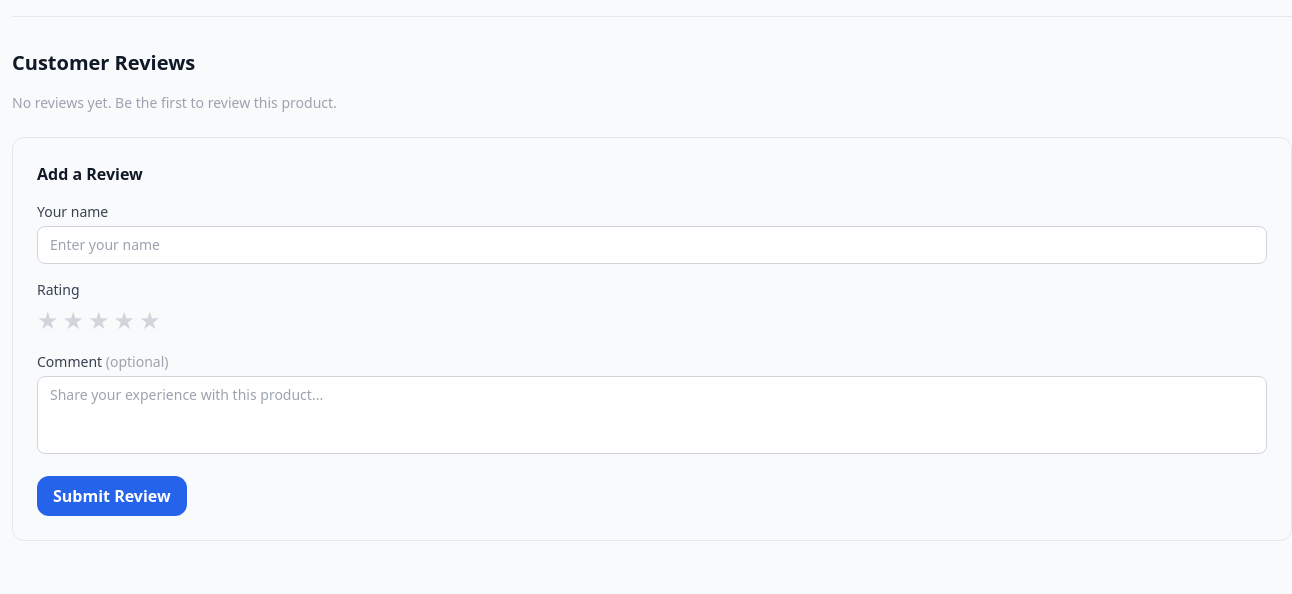
ReviewSection › shows "already reviewed" error on 409
This screenshot has width=1292, height=594.
Type "Alice" into the field labelled "Your name".
click(652, 245); type("Alice")  # box [37,226,1267,264]
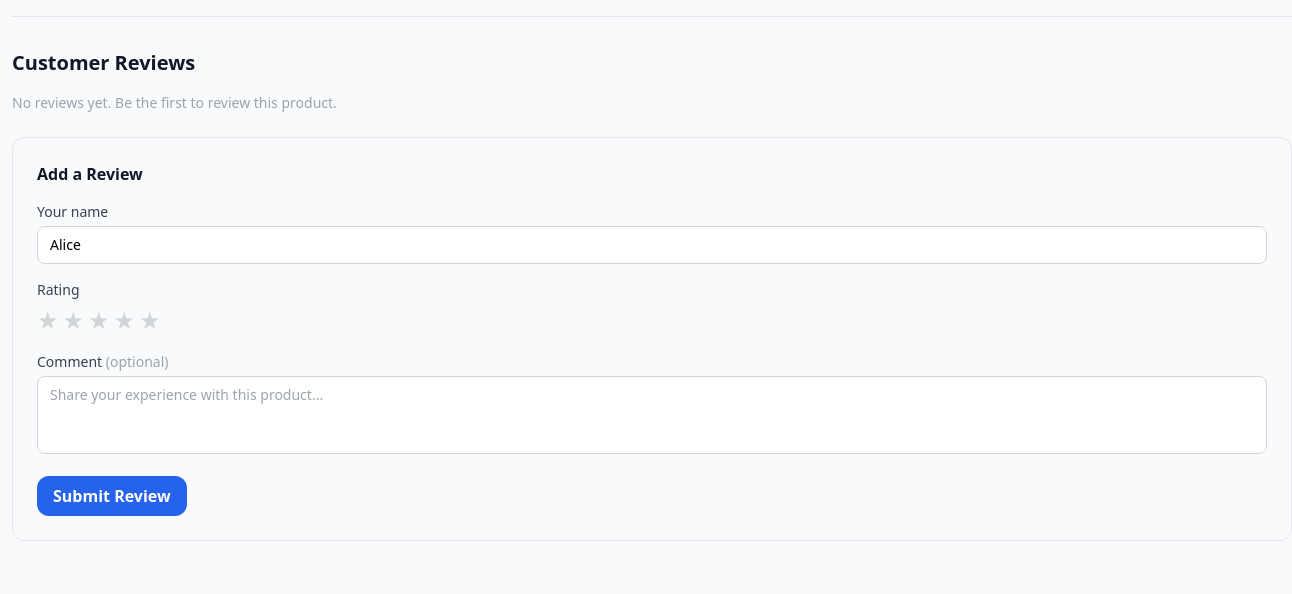
Click the button named "4 stars".
click(124, 320)  # box [114,304,135,336]
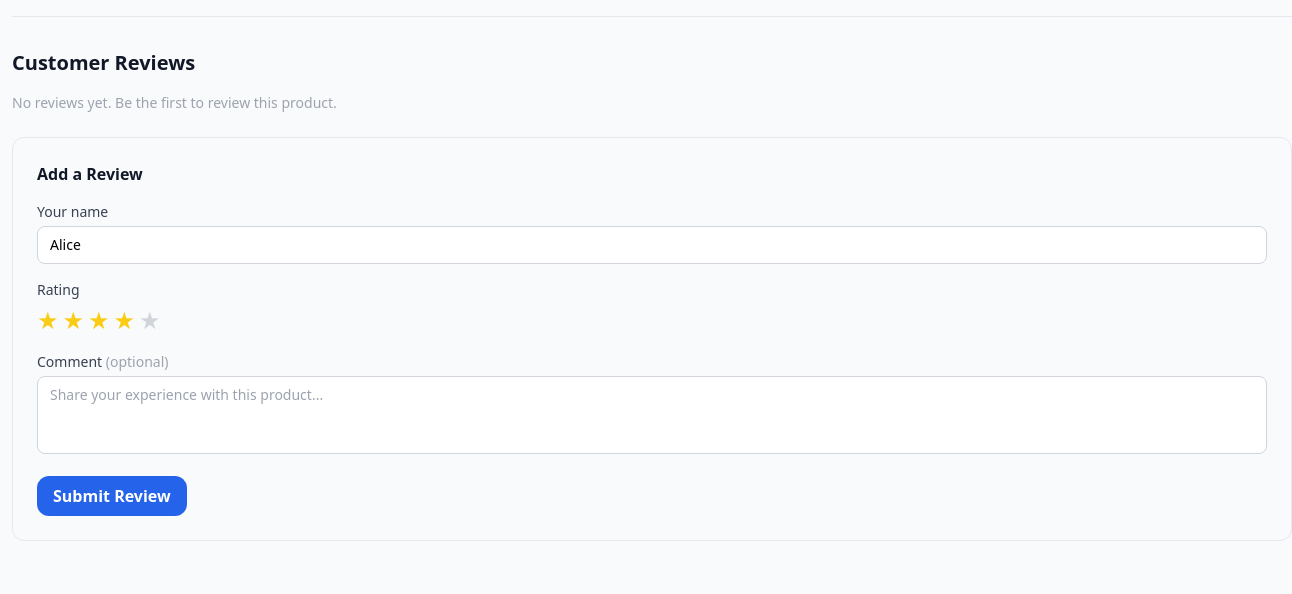
Click the button "Submit Review".
click(112, 496)  # box [37,476,187,516]
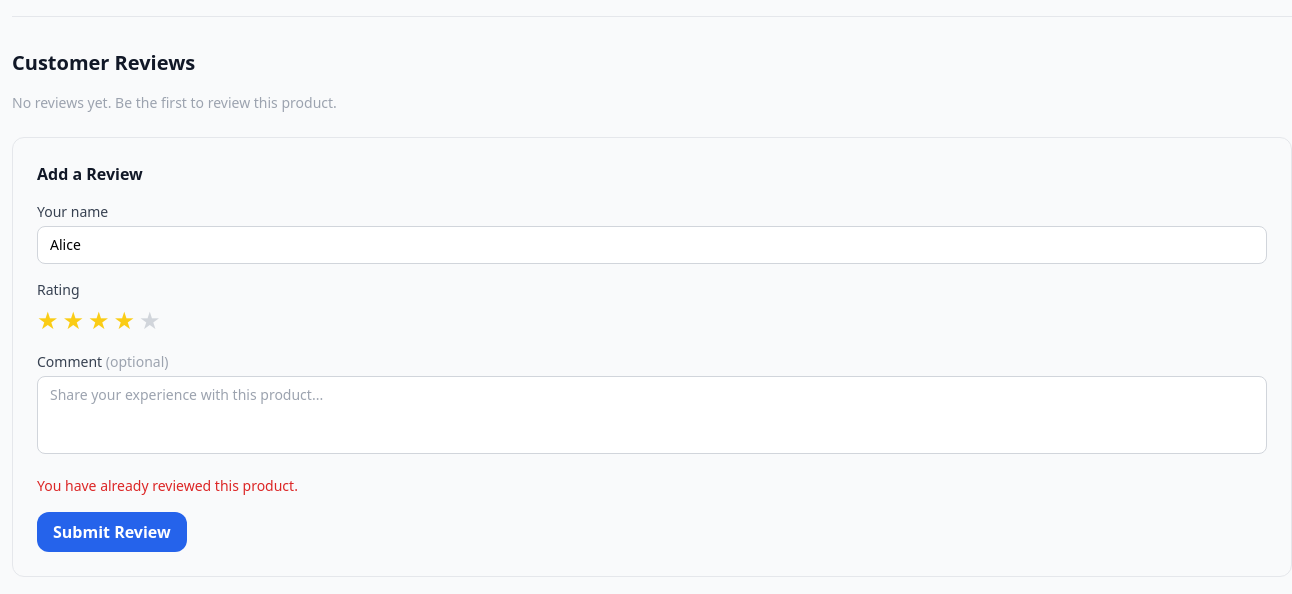
Expected: the text "You have already reviewed this product." is shown, [37,476,298,495]
